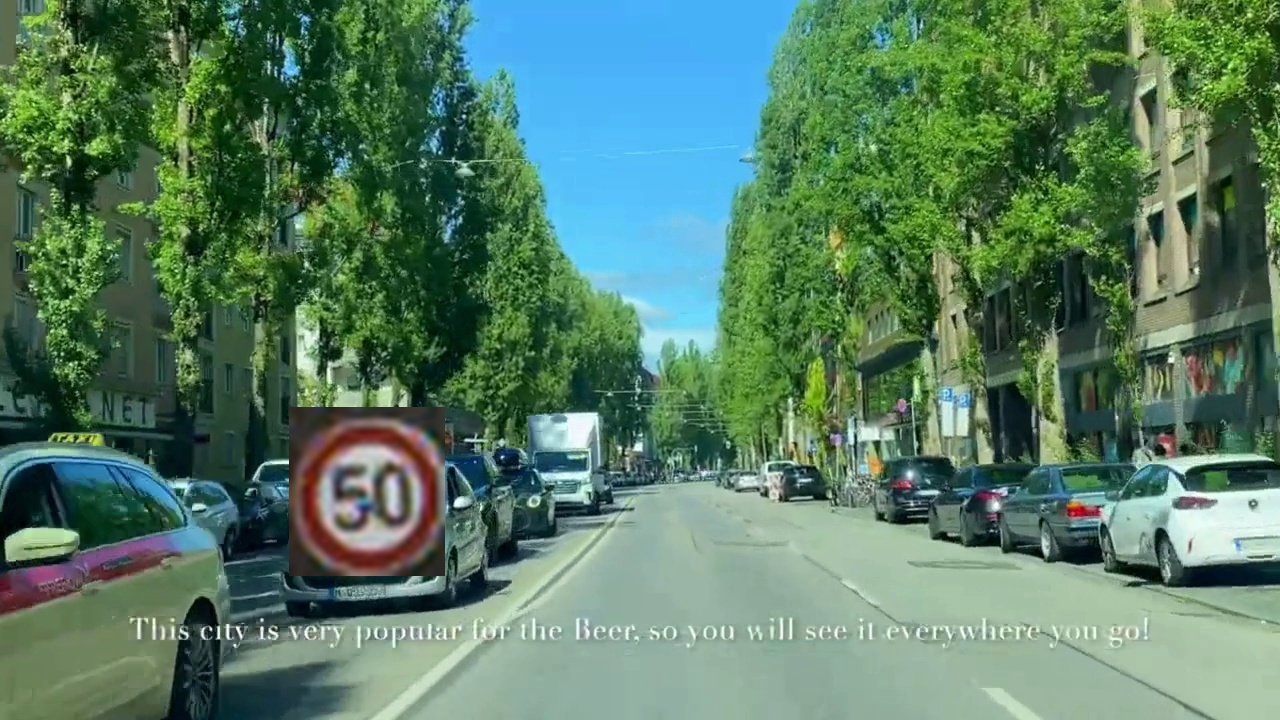Speed 50: (289, 407, 445, 576)
